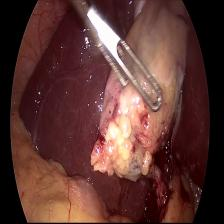Grasper: (84, 8, 171, 130)
